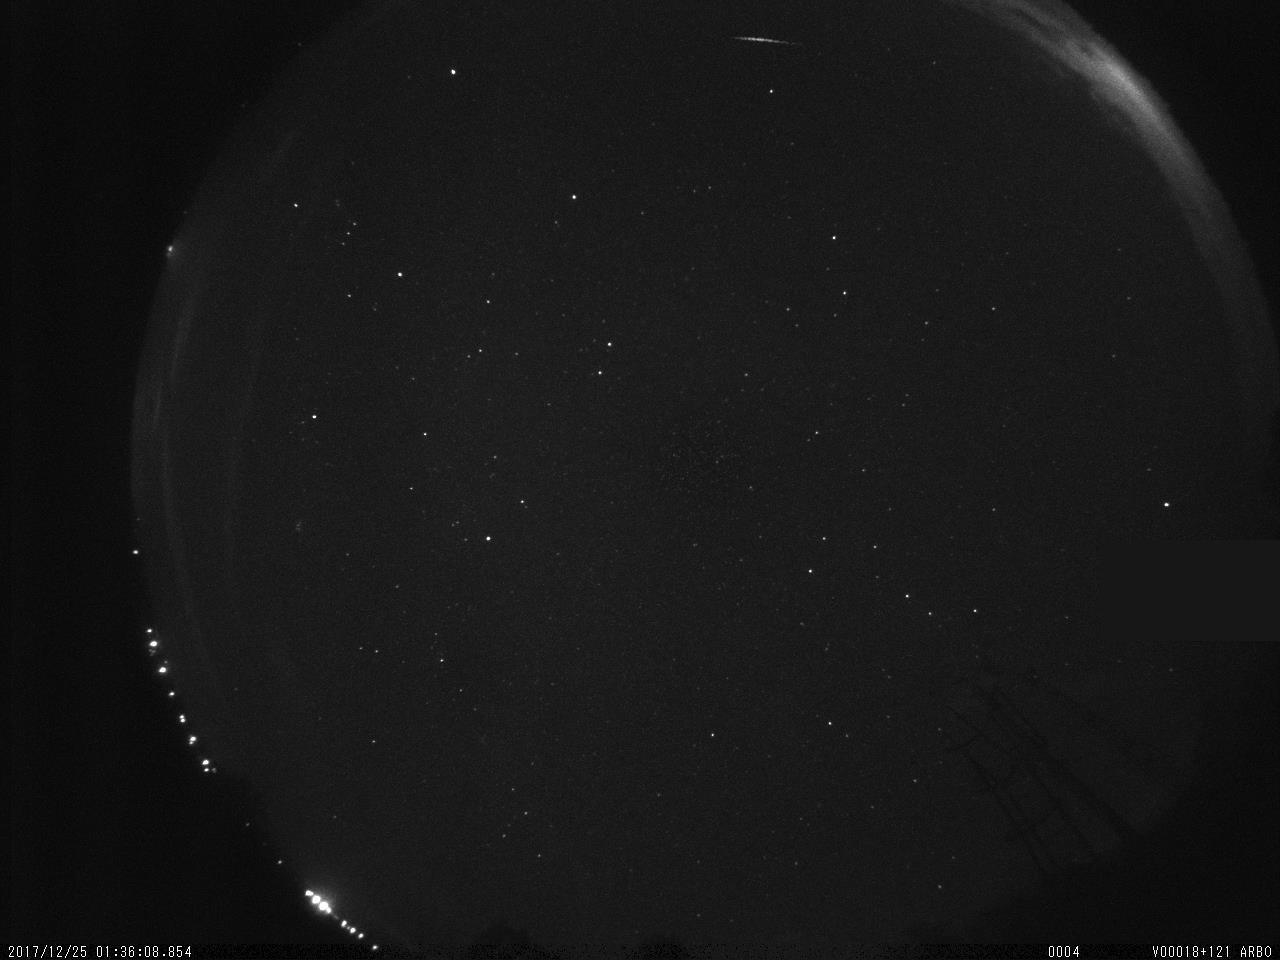meteor: (724, 26, 803, 61)
